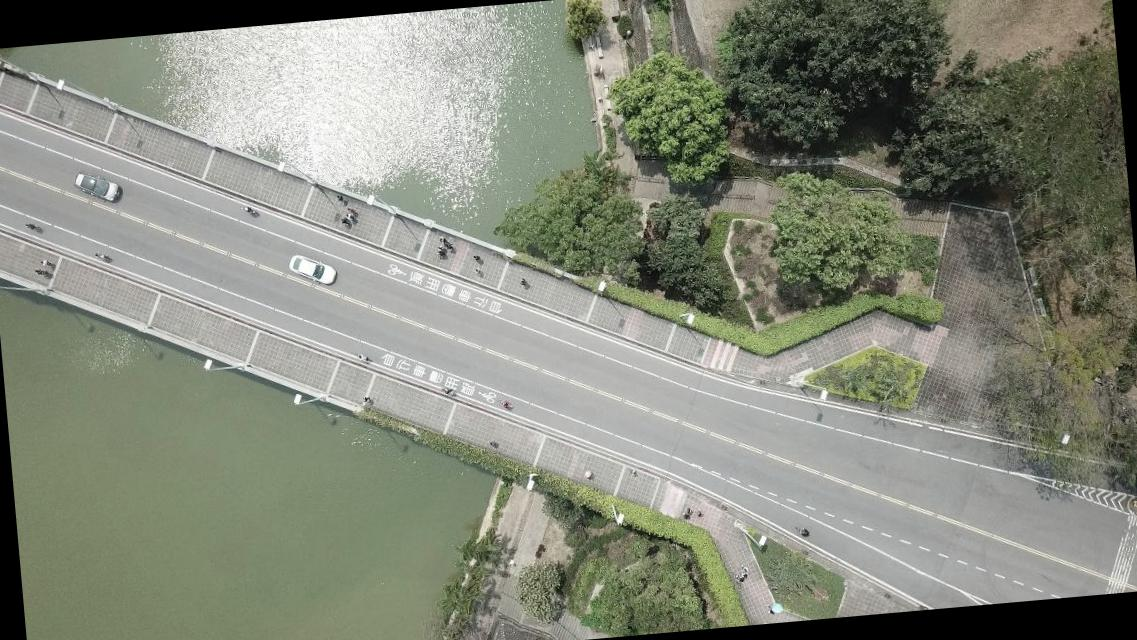vehicle: (287, 252, 337, 288), (72, 168, 120, 204)
